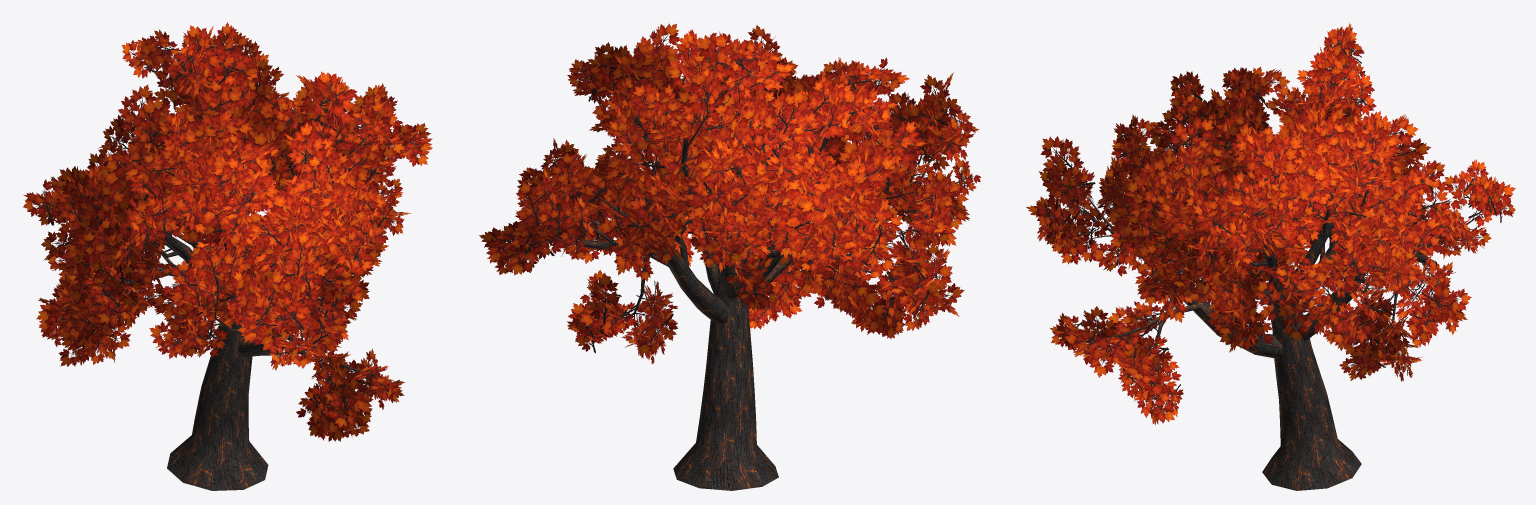
File: nature-red-fireheart-tree_v2.glb
3 views of the same model, side by side, from view 1: azimuth 30°, elevation 25°; view 2: azimuth 150°, elevation 25°; view 3: azimuth 270°, elevation 25° (orthographic). The views are drawn at different scales.
Parts seen in each view (by area): view 1: nature-red-fireheart-tree; view 2: nature-red-fireheart-tree; view 3: nature-red-fireheart-tree.
Part boxes in pixels (x1,y1,x2,y2): nature-red-fireheart-tree: [23, 22, 432, 490]; nature-red-fireheart-tree: [479, 23, 980, 490]; nature-red-fireheart-tree: [1026, 23, 1515, 490].
Size of the model in its own units: 13.7 by 15.29 by 16.14.
2 materials, 2 textured.
